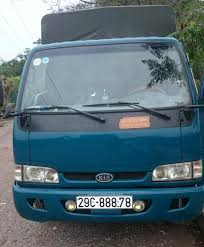Car number plates: (76, 196, 133, 209)
